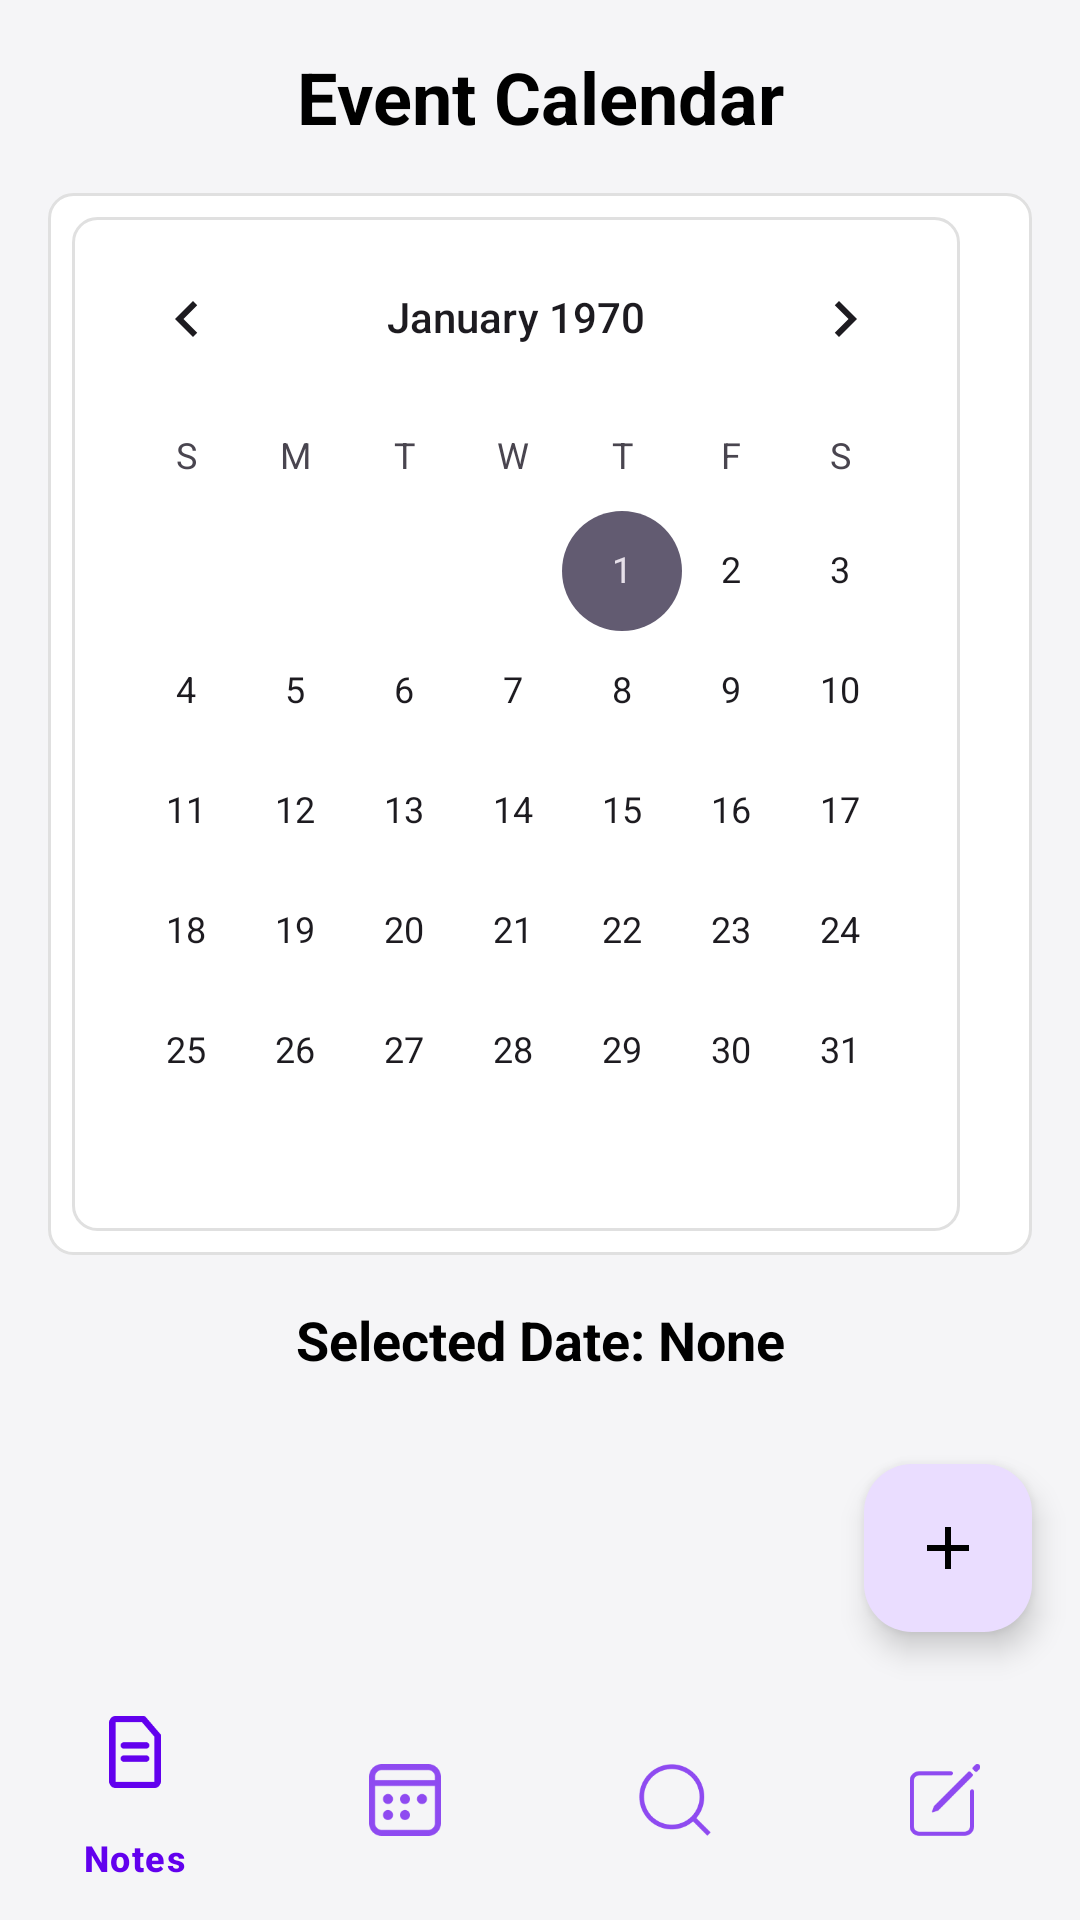

Point at icon controls on the screen. Image size 1080px×1920px, points as point (x, y).
add: point (948, 1548)
